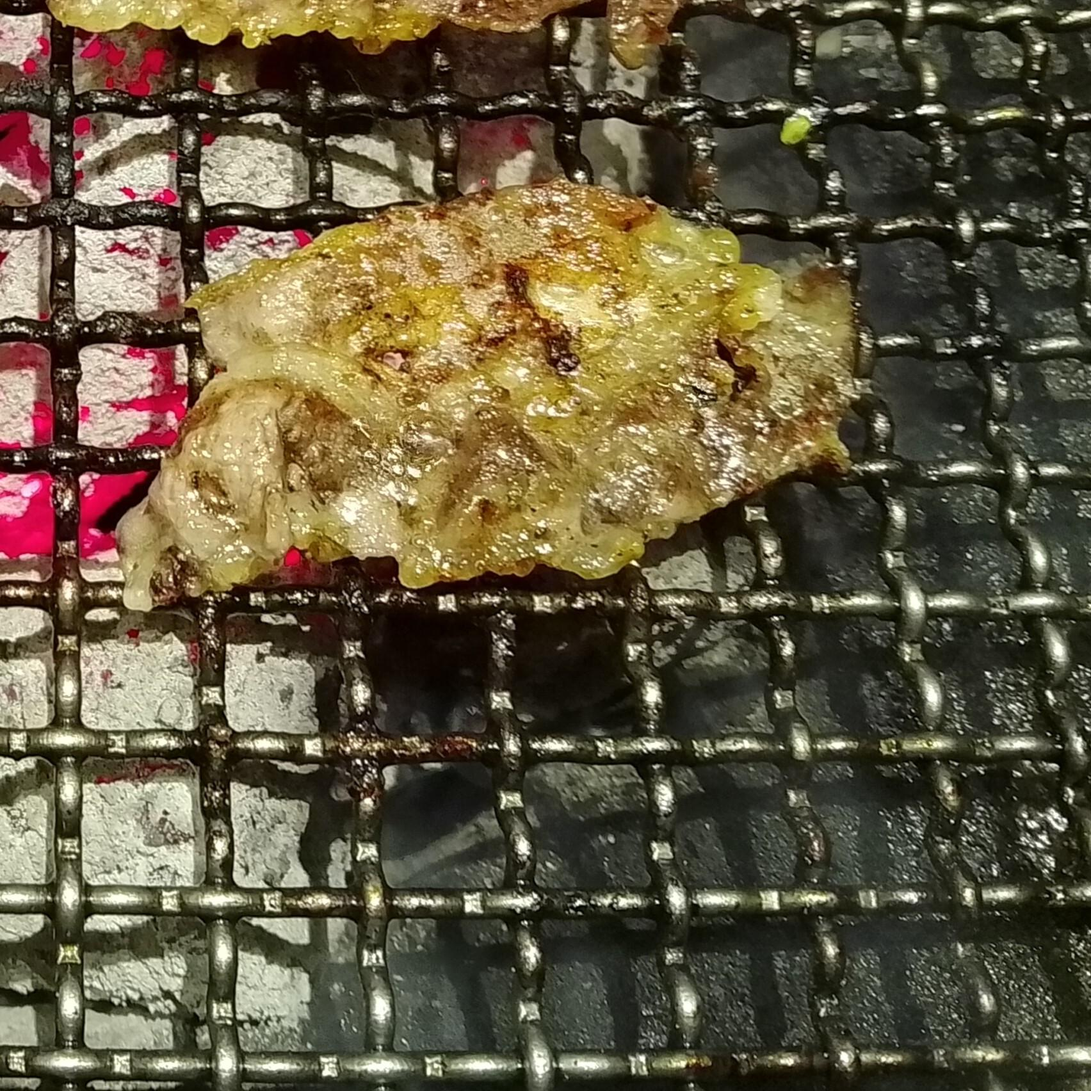Overcooked: (118, 179, 855, 610), (48, 0, 586, 53), (611, 0, 685, 66)
